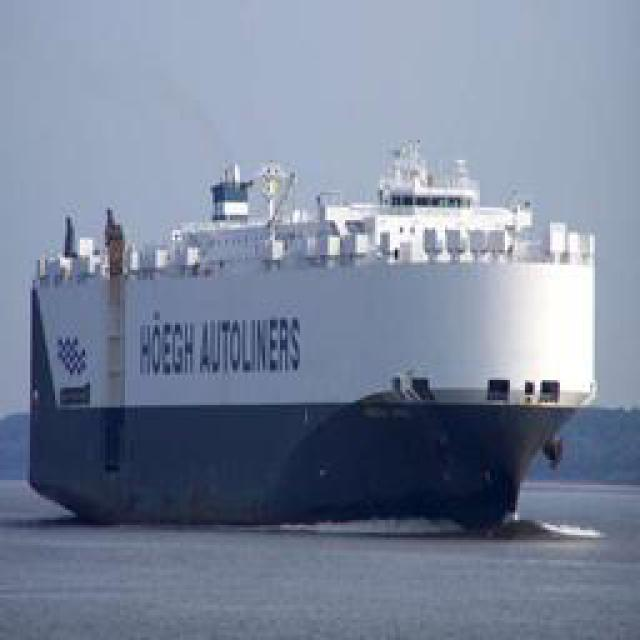Ship: (25, 133, 608, 538)
